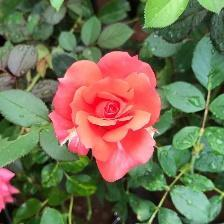rose: (49, 51, 164, 184)
